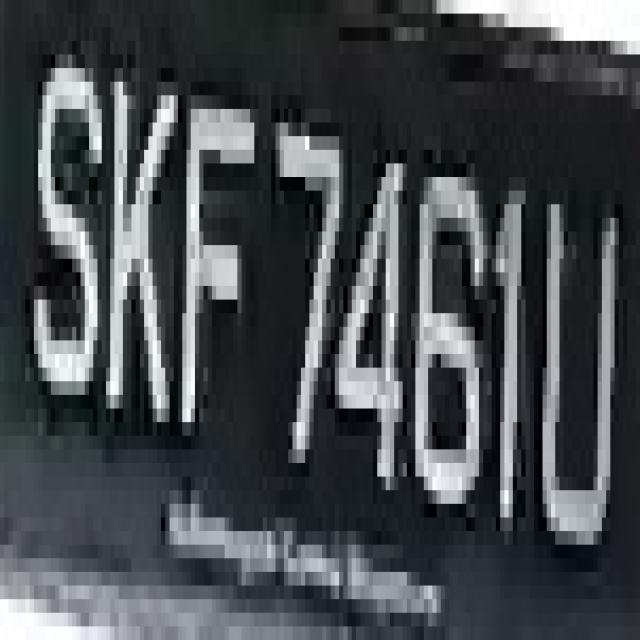1: (492, 136, 530, 545)
4: (326, 82, 403, 558)
6: (407, 150, 487, 558)
7: (267, 95, 348, 463)
F: (174, 27, 246, 436)
K: (97, 27, 174, 490)
S: (29, 68, 102, 436)
U: (534, 177, 623, 572)
